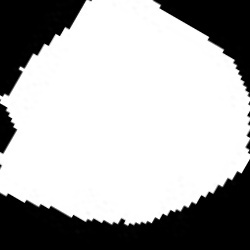spot: (1, 1, 250, 225)
